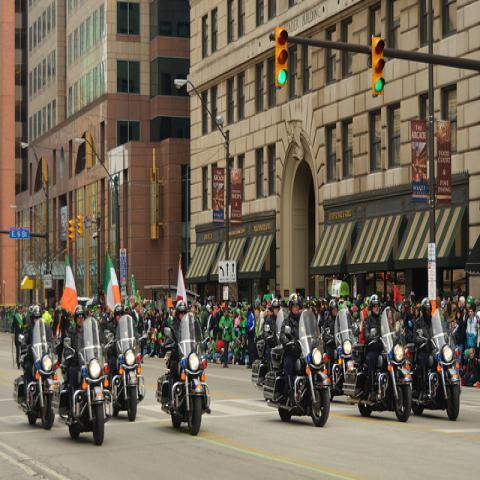motorcycle: (261, 308, 331, 431), (345, 306, 415, 423), (55, 315, 114, 446), (157, 312, 212, 434), (11, 322, 61, 432), (412, 322, 462, 421), (107, 313, 146, 422), (323, 306, 361, 401), (251, 324, 277, 389)
